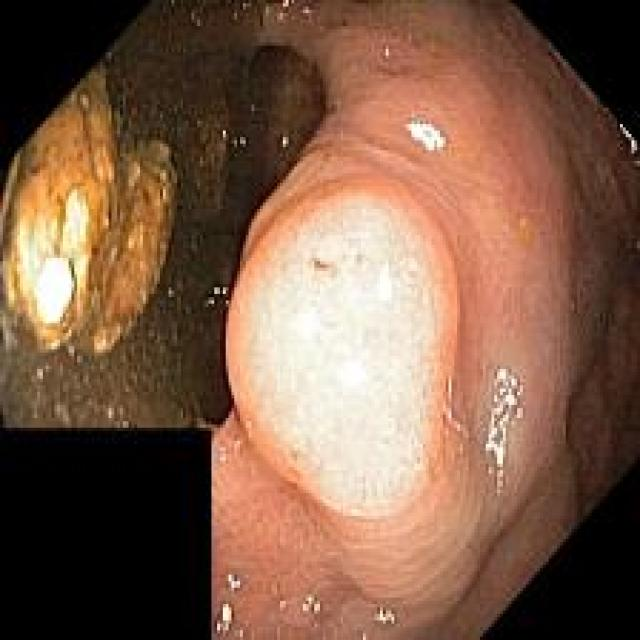Polyps: (229, 191, 448, 520)
